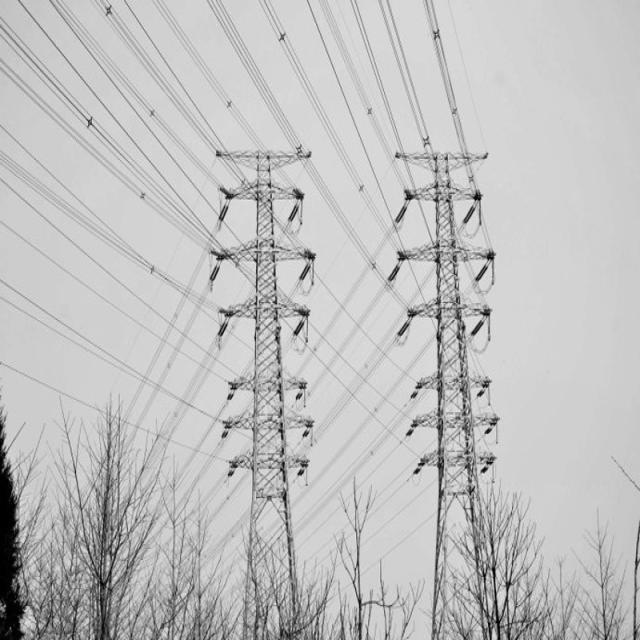non-critical vegetation: (383, 133, 527, 635), (194, 136, 337, 634)
